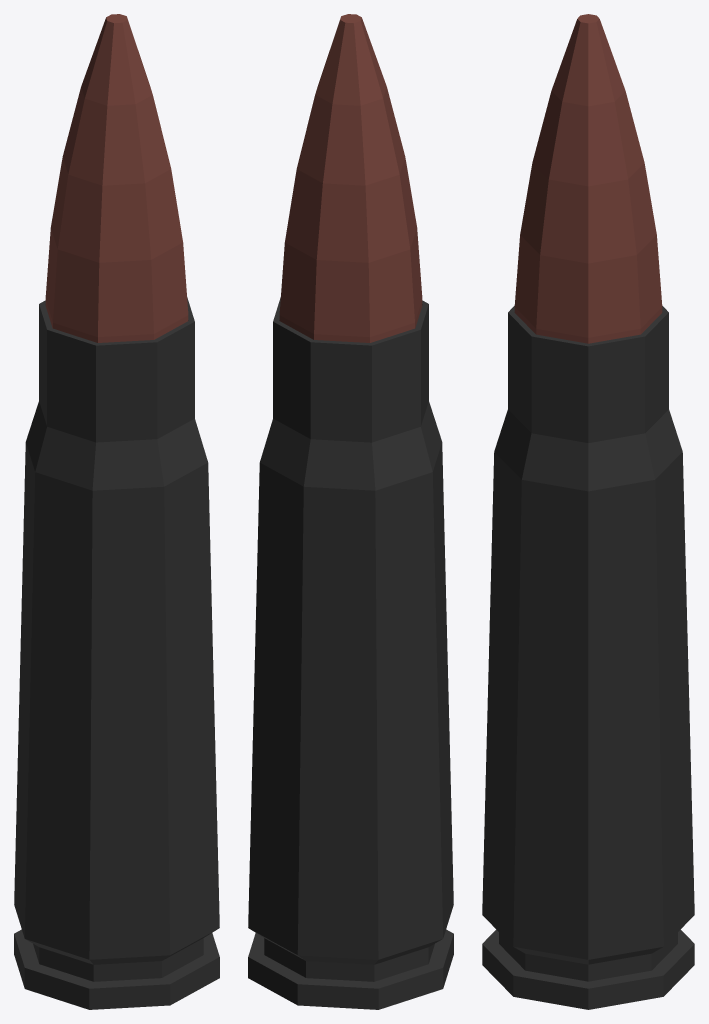
The picture shows the model from 3 angles, left to right: view 1: azimuth 30°, elevation 25°; view 2: azimuth 150°, elevation 25°; view 3: azimuth 270°, elevation 25°; orthographic projection.
Visible parts, largest first — view 1: 7.62x39; view 2: 7.62x39; view 3: 7.62x39.
Boxes of the visible parts, x1,y1,x2,y2 form: 7.62x39: [14, 14, 219, 1009]; 7.62x39: [248, 14, 453, 1009]; 7.62x39: [482, 14, 694, 1009].
Bounding box in the file's own units: 0.0114 × 0.056 × 0.0114.
Materials: 1 (1 with a texture image).
